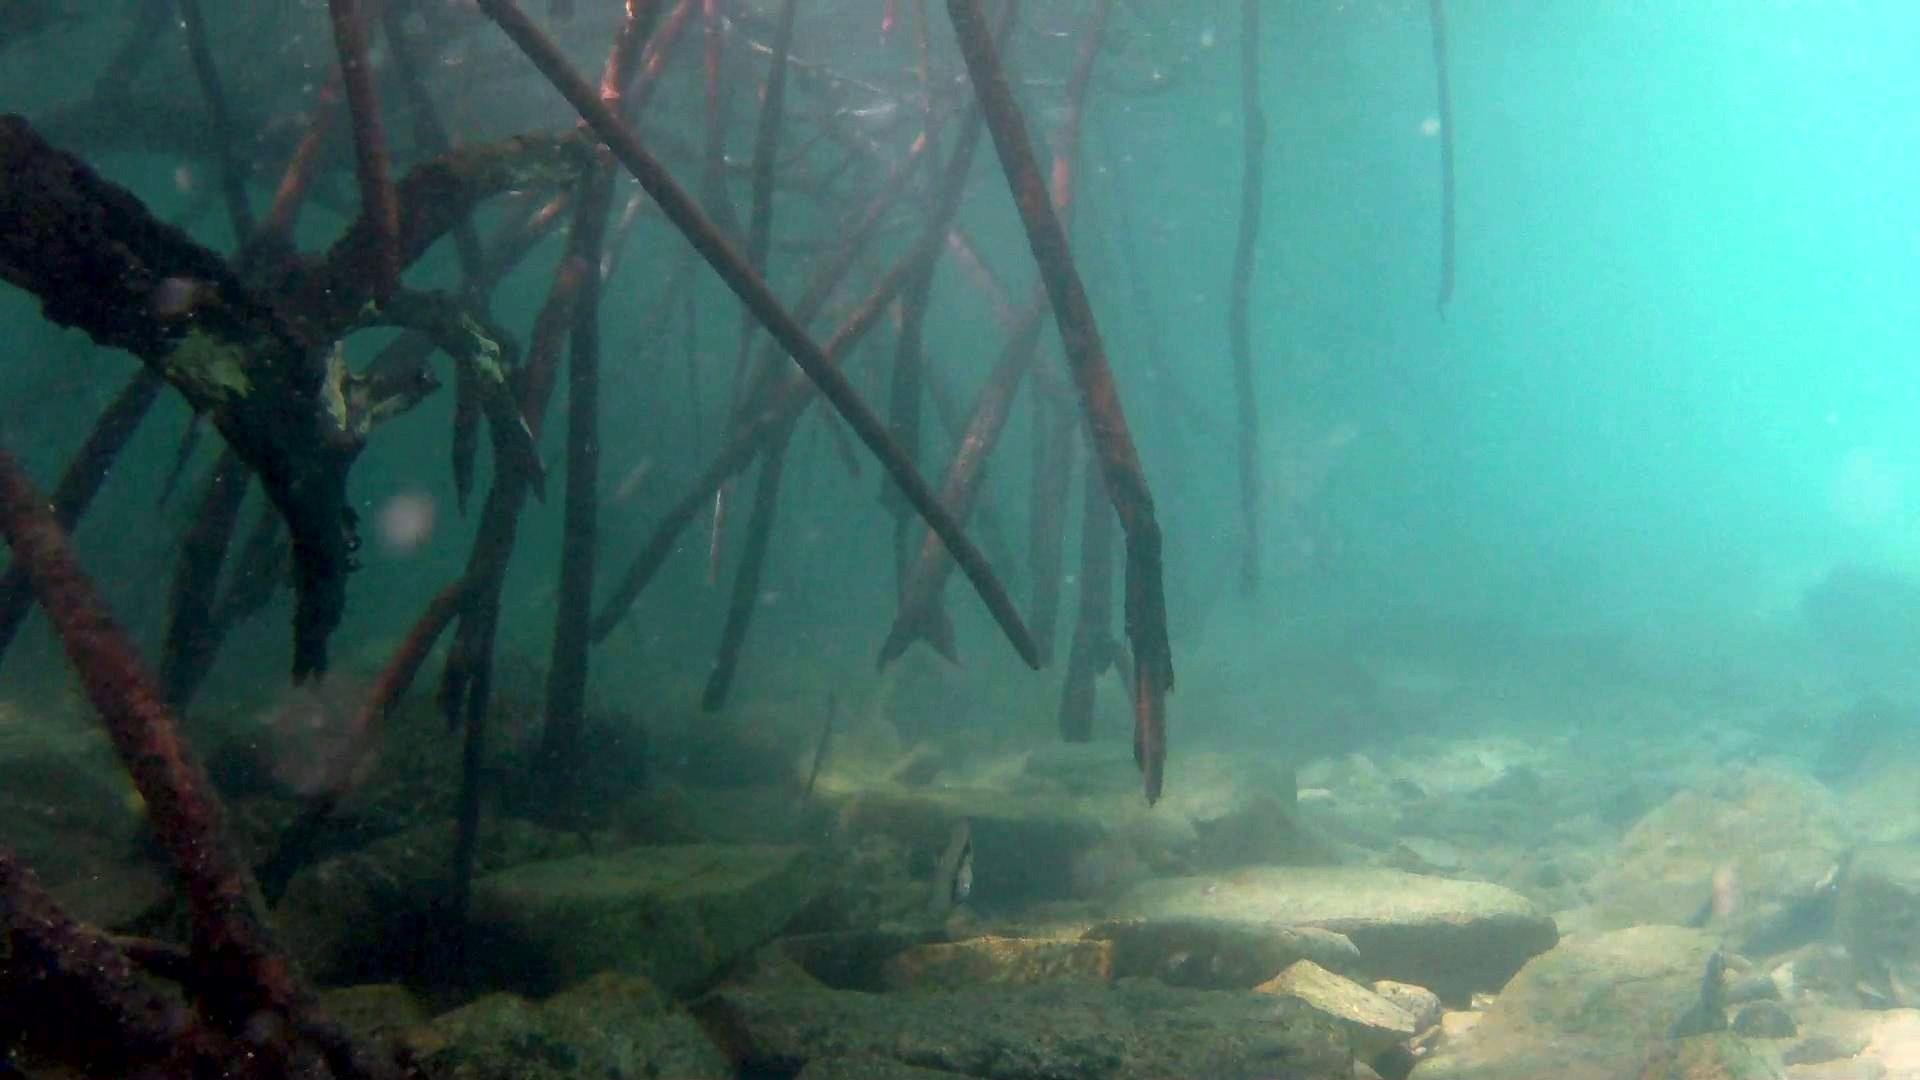chaetodon vagabundus: (925, 812, 980, 922)
